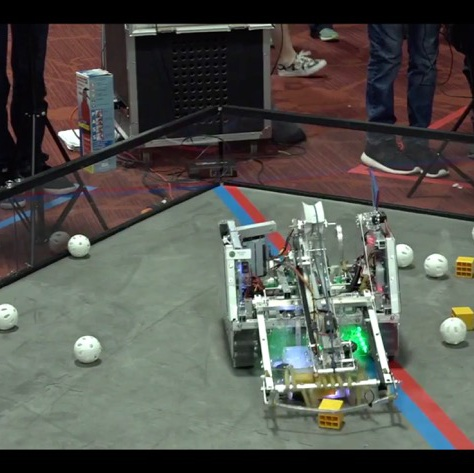robot: (214, 198, 407, 423)
